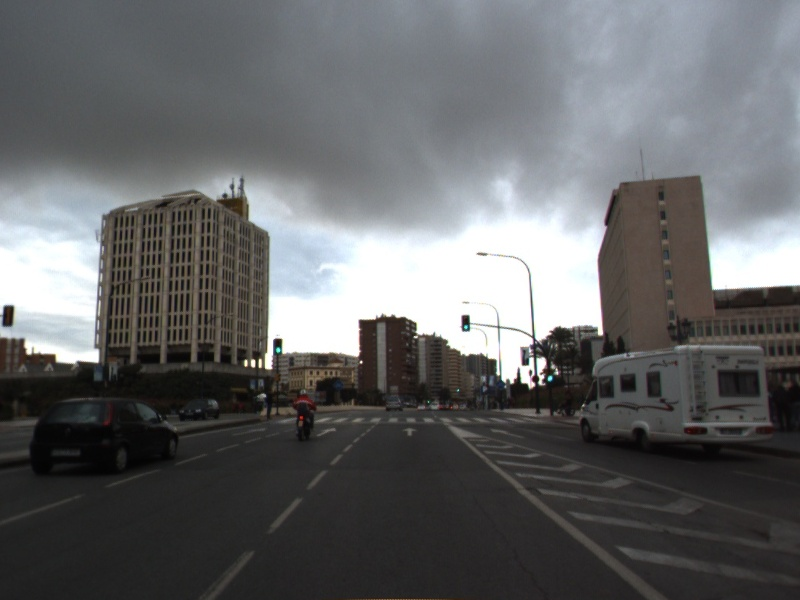STRAIGHT: (487, 426, 528, 441), (229, 425, 269, 438), (314, 425, 339, 438), (399, 425, 420, 438)
